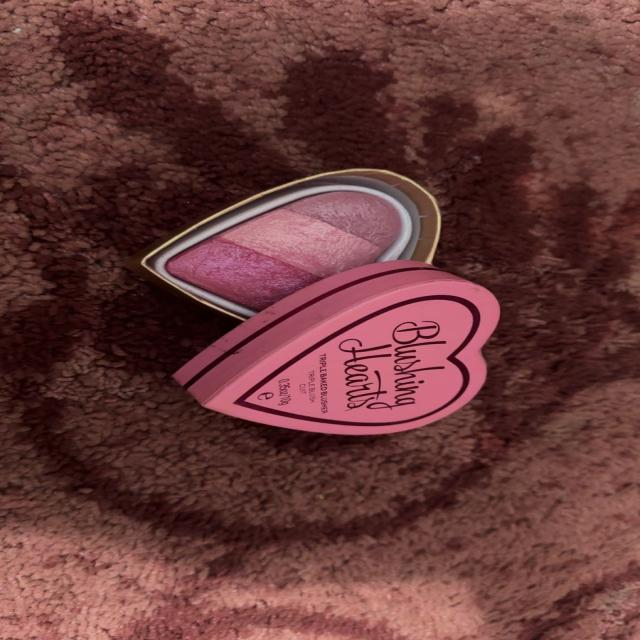blush: (150, 157, 453, 320)
